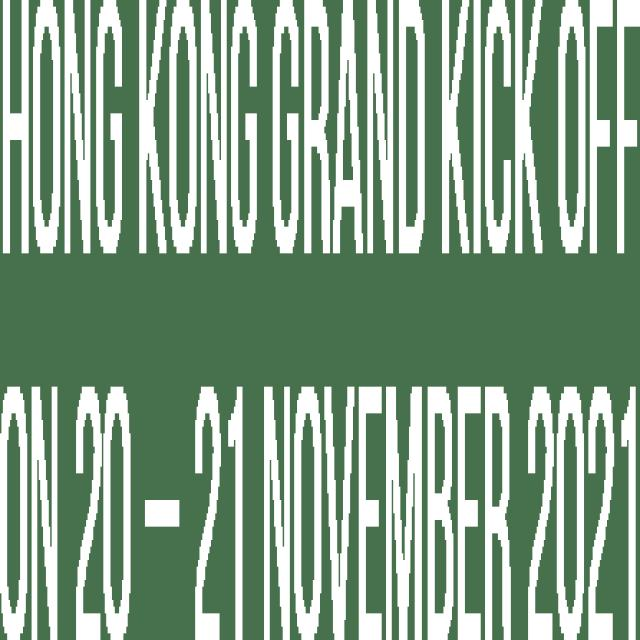Background Image: (0, 0, 638, 633)
Text Elements: (0, 374, 639, 634), (3, 0, 637, 260)
